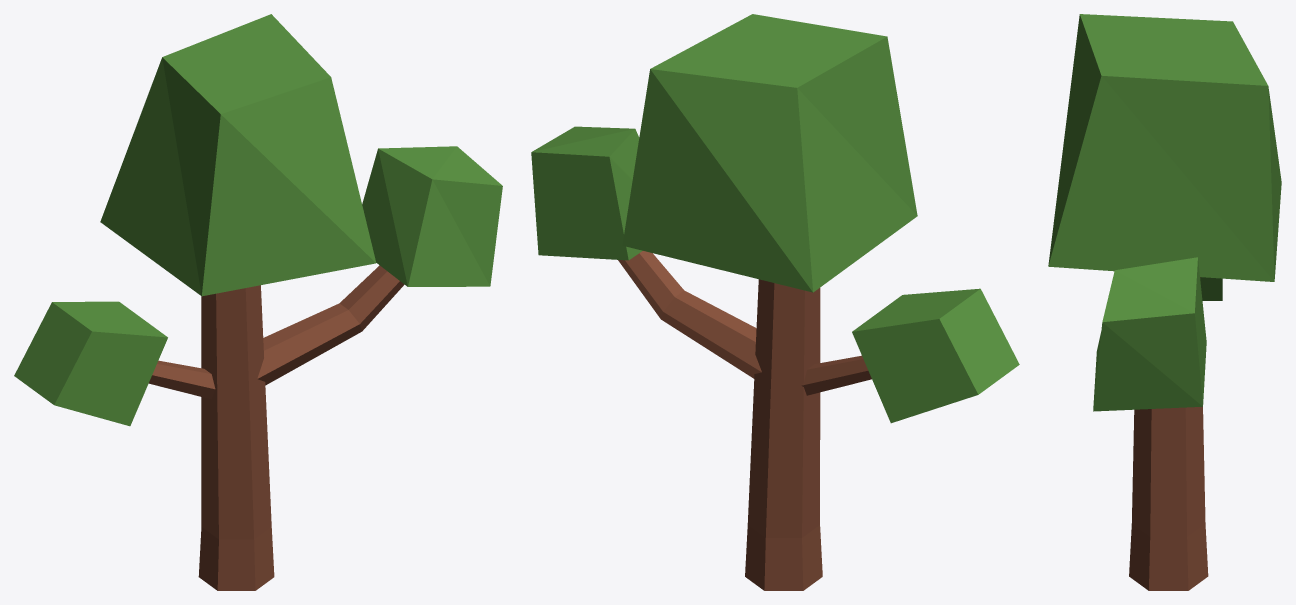
Rendered from Tree_44_summer_mat.fbx.
3 views of the same model, side by side, from view 1: azimuth 30°, elevation 25°; view 2: azimuth 150°, elevation 25°; view 3: azimuth 270°, elevation 25° (orthographic). The views are drawn at different scales.
Parts seen in each view (by area): view 1: Tree_44_summer_mat; view 2: Tree_44_summer_mat; view 3: Tree_44_summer_mat.
Boxes of the visible parts, x1=… form: Tree_44_summer_mat: x1=14, y1=14, x2=502, y2=590; Tree_44_summer_mat: x1=531, y1=14, x2=1019, y2=590; Tree_44_summer_mat: x1=1048, y1=14, x2=1281, y2=590.
Size of the model in its own units: 162 by 179 by 70.99.
